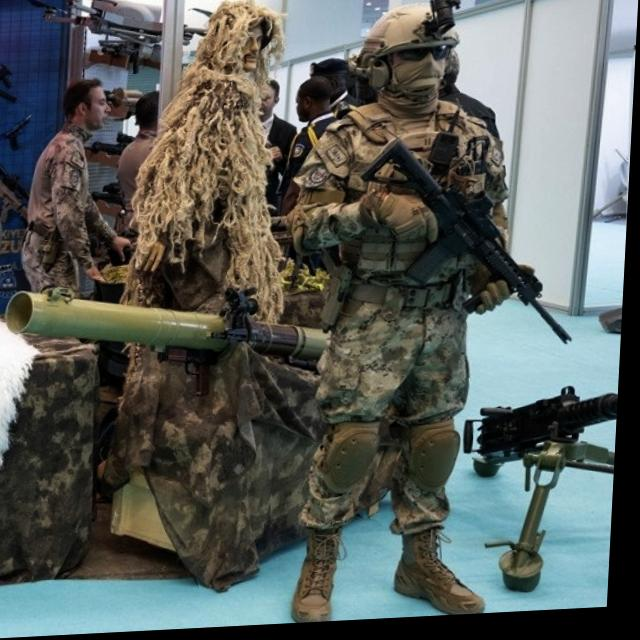poh_personel: (279, 0, 550, 628), (21, 79, 140, 351)
